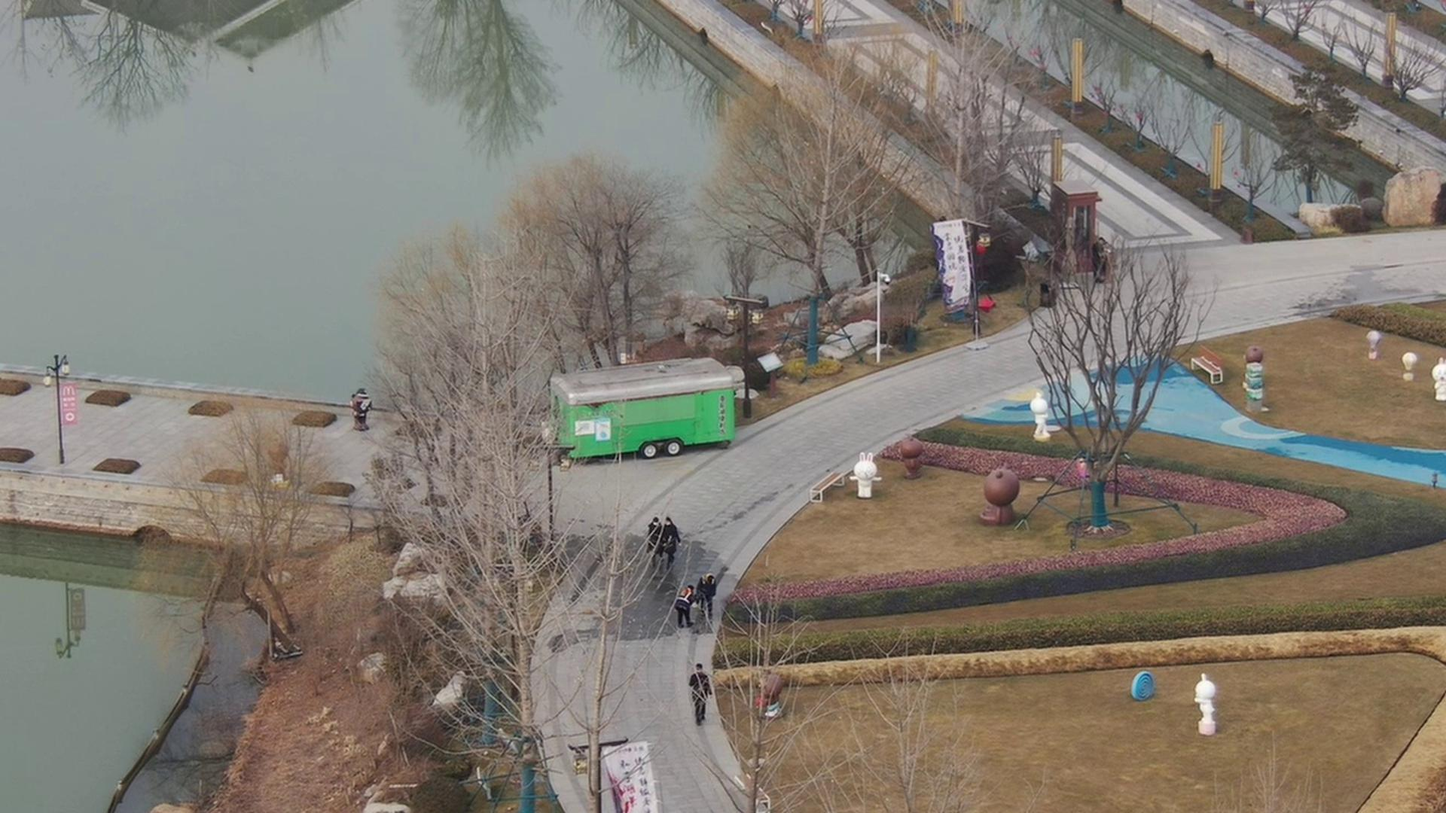class_2: (644, 516, 679, 574)
human: (682, 659, 719, 726), (669, 586, 697, 640), (697, 574, 721, 622)
